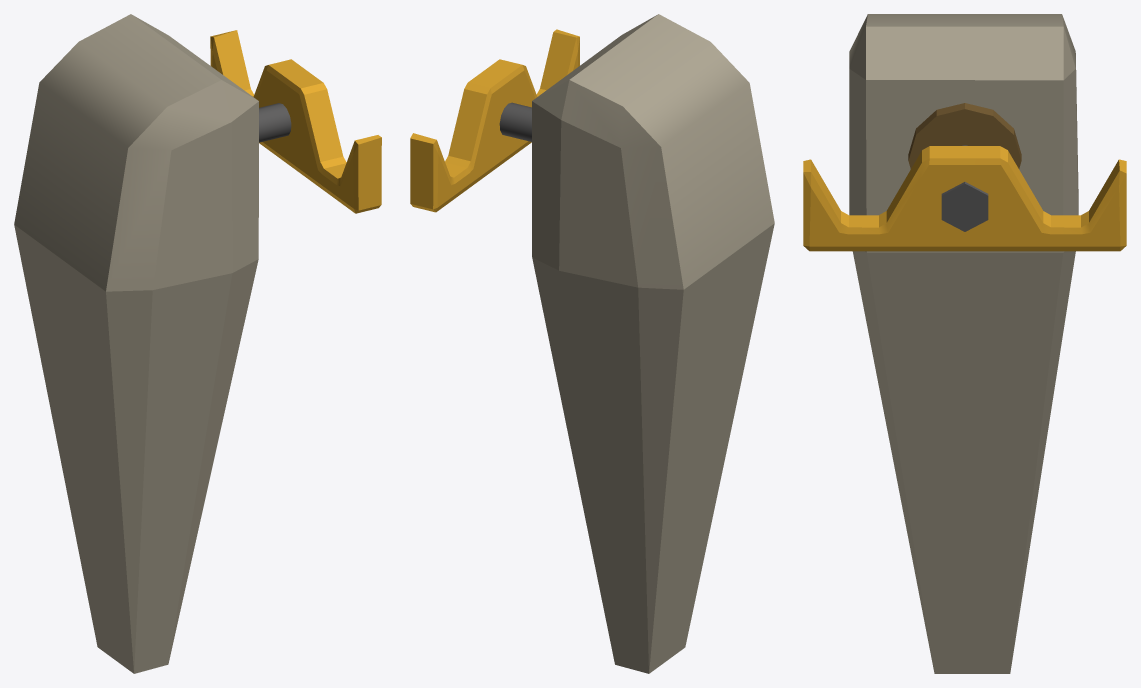
The model's file is controles2.fbx.
The picture shows the model from 3 angles, left to right: view 1: azimuth 30°, elevation 25°; view 2: azimuth 150°, elevation 25°; view 3: azimuth 270°, elevation 25°; orthographic projection. The views are drawn at different scales.
Visible parts, largest first — view 1: pCube1, pCube2, pCylinder2; view 2: pCube1, pCube2, pCylinder2; view 3: pCube1, pCube2, pCylinder1, pCylinder3.
Boxes of the visible parts, <box> form: pCube1: <box>14,14,258,673</box>; pCube2: <box>210,30,381,213</box>; pCylinder2: <box>259,103,291,142</box>; pCube1: <box>532,14,774,673</box>; pCube2: <box>410,29,579,212</box>; pCylinder2: <box>499,102,531,141</box>; pCube1: <box>849,14,1078,673</box>; pCube2: <box>803,146,1126,251</box>; pCylinder1: <box>908,103,1021,168</box>; pCylinder3: <box>941,182,988,231</box>.
Bounding box in the file's own units: 5.65 × 12.86 × 5.72.
